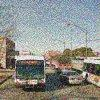buses: (11, 58, 50, 90), (80, 58, 100, 89)
